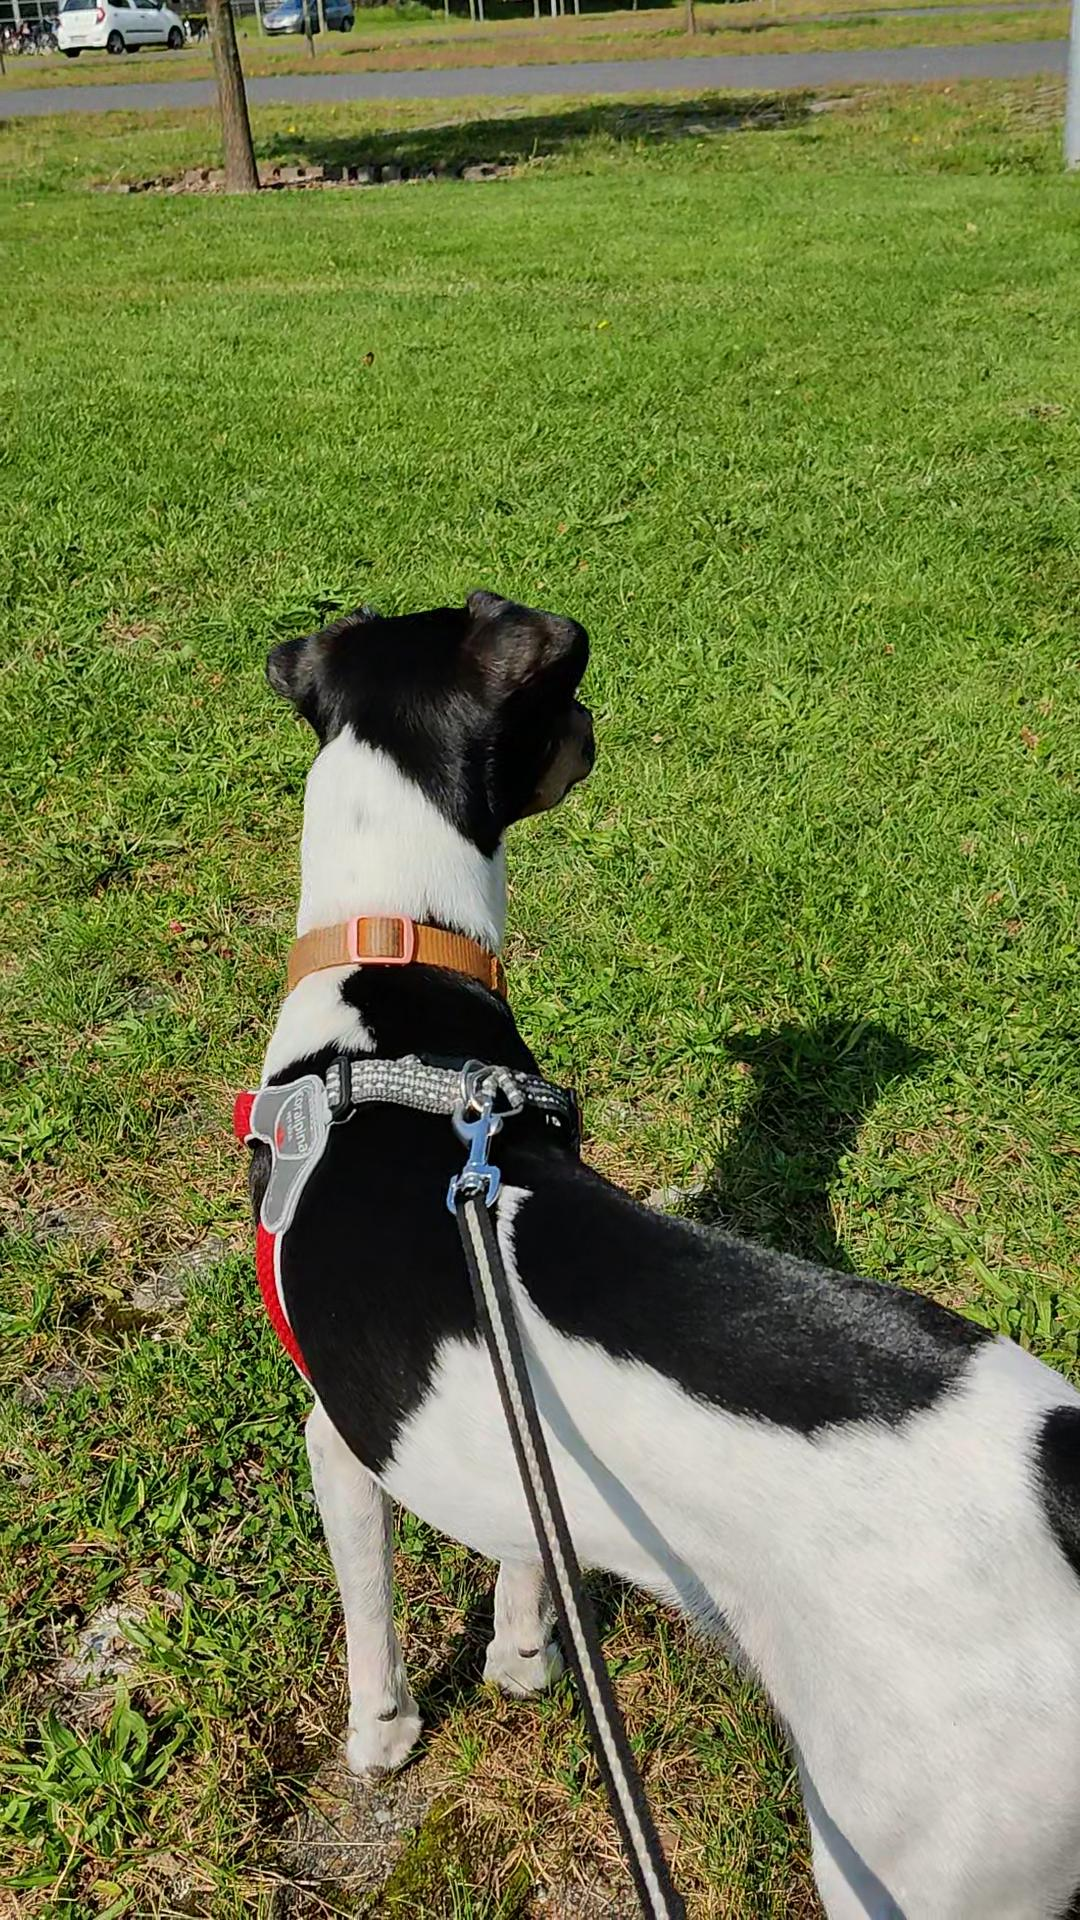Dog: (208, 564, 1079, 1919)
